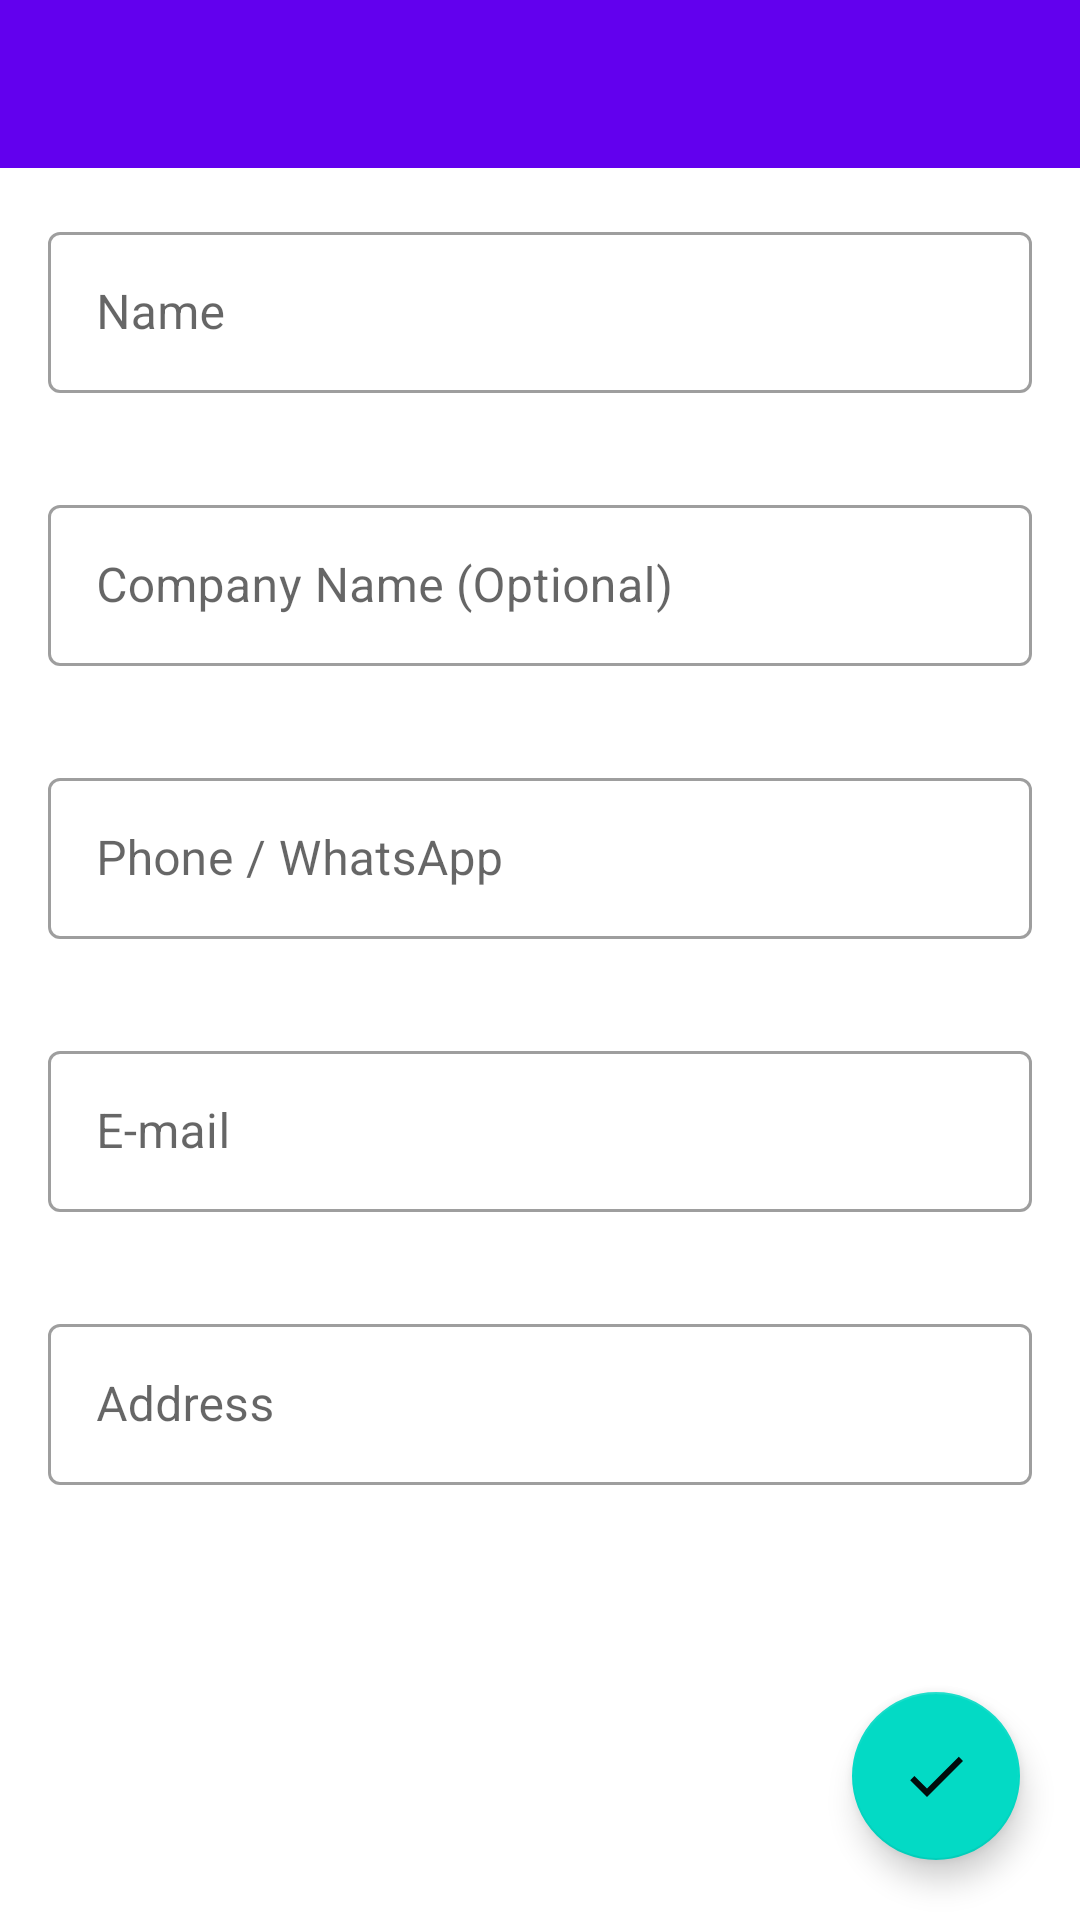

Icons on this 1080 x 1920 Android screen, each with the point to tap as (x,y):
Save: (936,1776)
